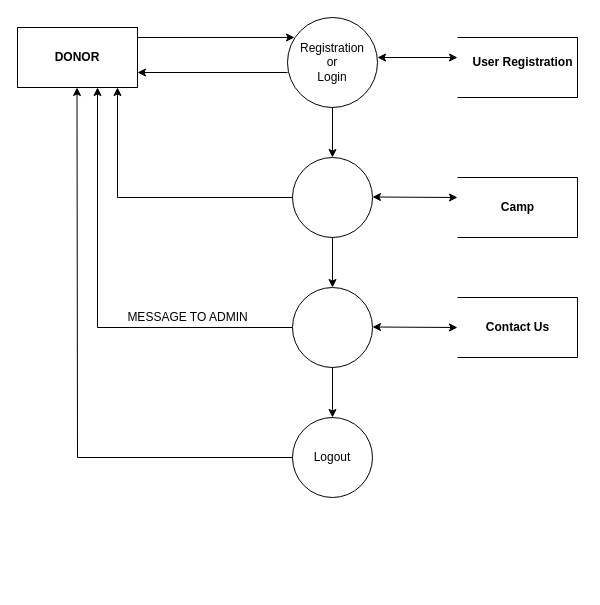
Some shapes in this 600 by 605 pixel diagram are drawn without their labels. The box of each missing label's shape, as (x1, y1, x2, y2) in pixels:
Donat Blood in Camp: (292, 156, 372, 238)
Interact with admin: (292, 286, 372, 368)
